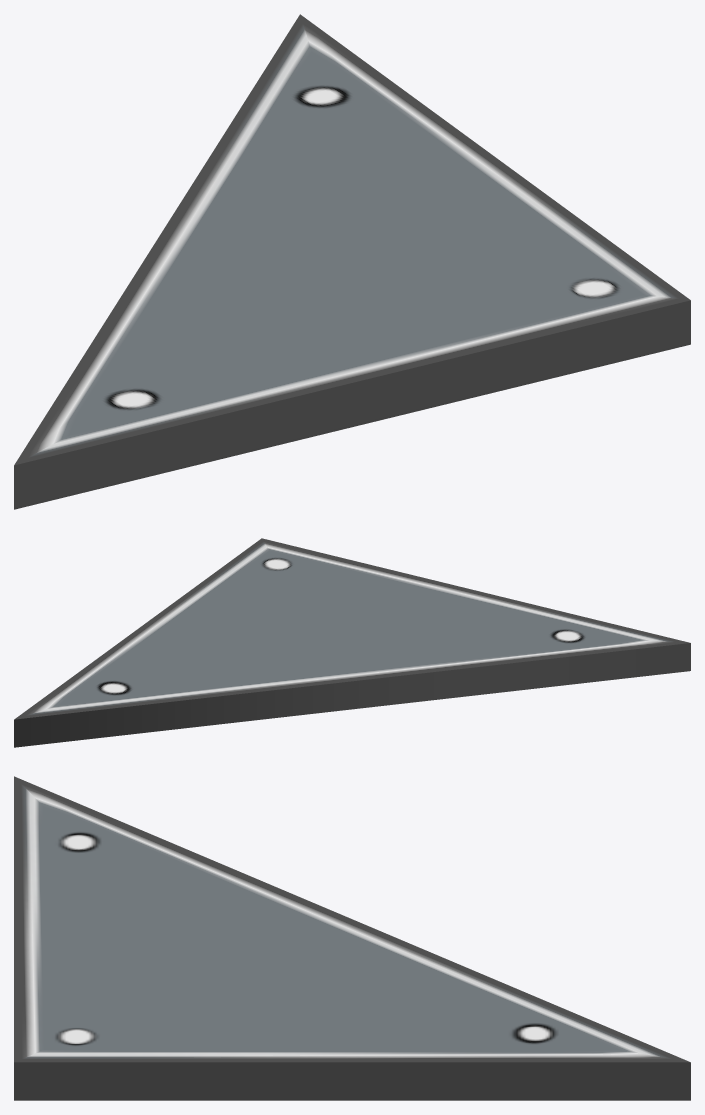
Rendered from space_half_floor.gltf.
3 renders of one model, top to bottom at view 1: azimuth 30°, elevation 25°; view 2: azimuth 150°, elevation 25°; view 3: azimuth 270°, elevation 25°, orthographic. The views are drawn at different scales.
Parts seen in each view (by area): view 1: space_half_floor_glb; view 2: space_half_floor_glb; view 3: space_half_floor_glb.
Part boxes in pixels (x1=…): space_half_floor_glb: x1=14, y1=14, x2=690, y2=509; space_half_floor_glb: x1=14, y1=538, x2=690, y2=747; space_half_floor_glb: x1=14, y1=776, x2=690, y2=1100.
Size of what is drawn, in the model's own units: 4 by 0.25 by 4.
Materials: 1 (1 with a texture image).
